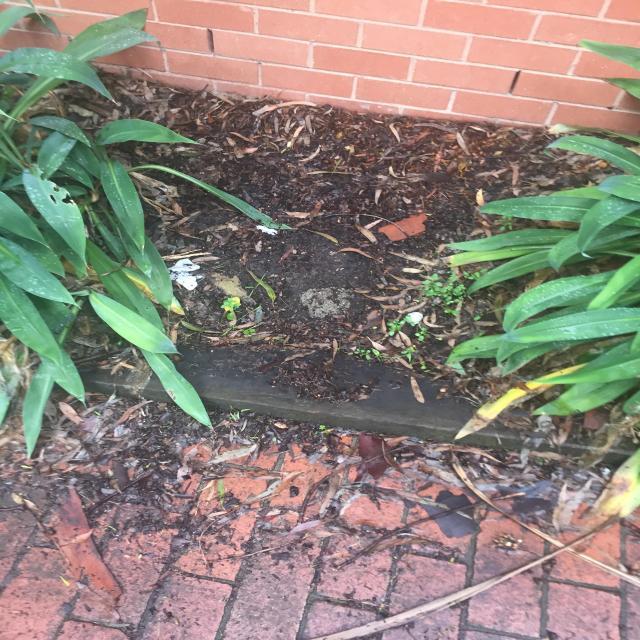litter: (144, 248, 224, 297)
